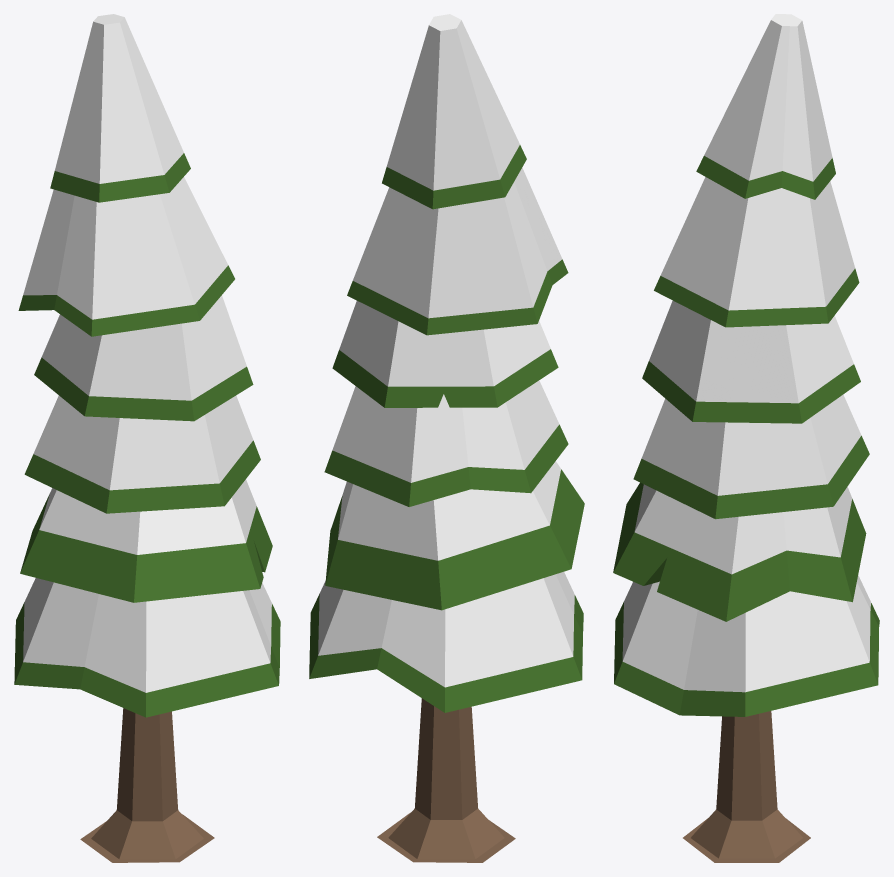
The model's file is tree 11.fbx.
3 views of the same model, side by side, from view 1: azimuth 30°, elevation 25°; view 2: azimuth 150°, elevation 25°; view 3: azimuth 270°, elevation 25° (orthographic). The views are drawn at different scales.
Visible parts, largest first — view 1: Tree 11; view 2: Tree 11; view 3: Tree 11.
Part boxes in pixels (x1,y1,x2,y2): Tree 11: [14, 14, 280, 862]; Tree 11: [309, 14, 584, 862]; Tree 11: [613, 14, 879, 862].
Bounding box in the file's own units: 237 × 695 × 207.
1 material, 1 textured.
